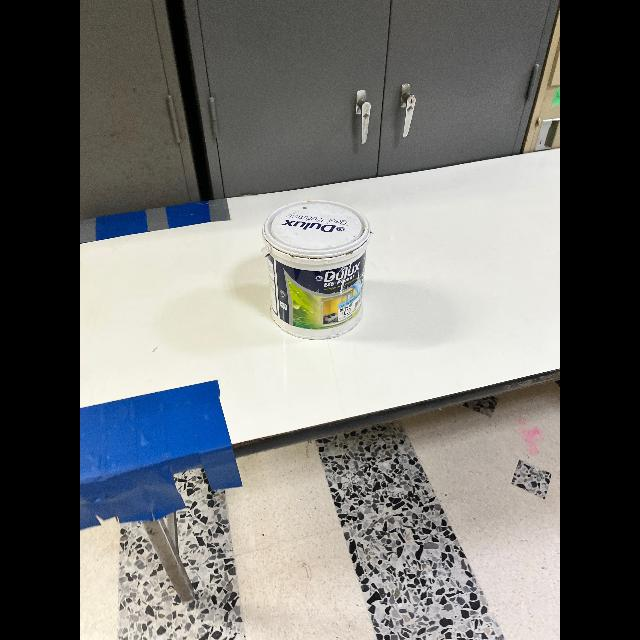paint_bucket: (261, 197, 371, 341)
